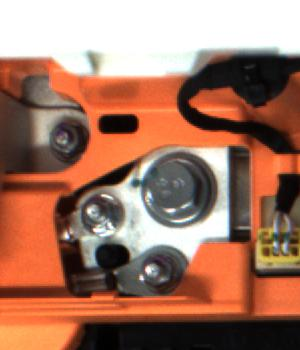nut_b: (142, 147, 217, 226)
